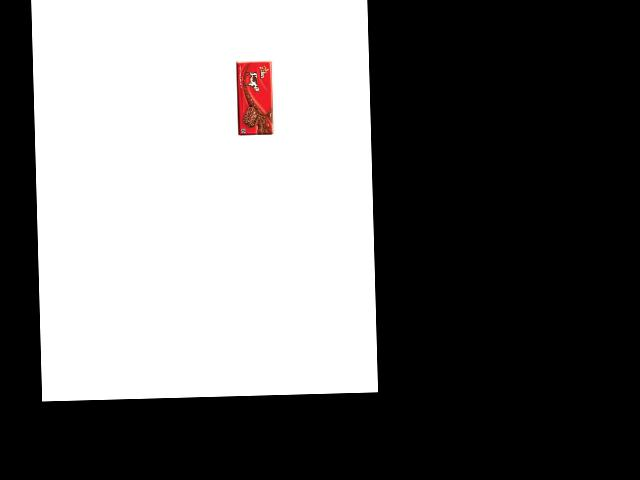chocolate: (242, 67, 281, 137)
